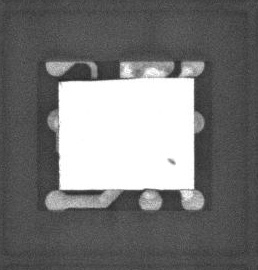DIE_INK: (159, 164, 167, 174)
